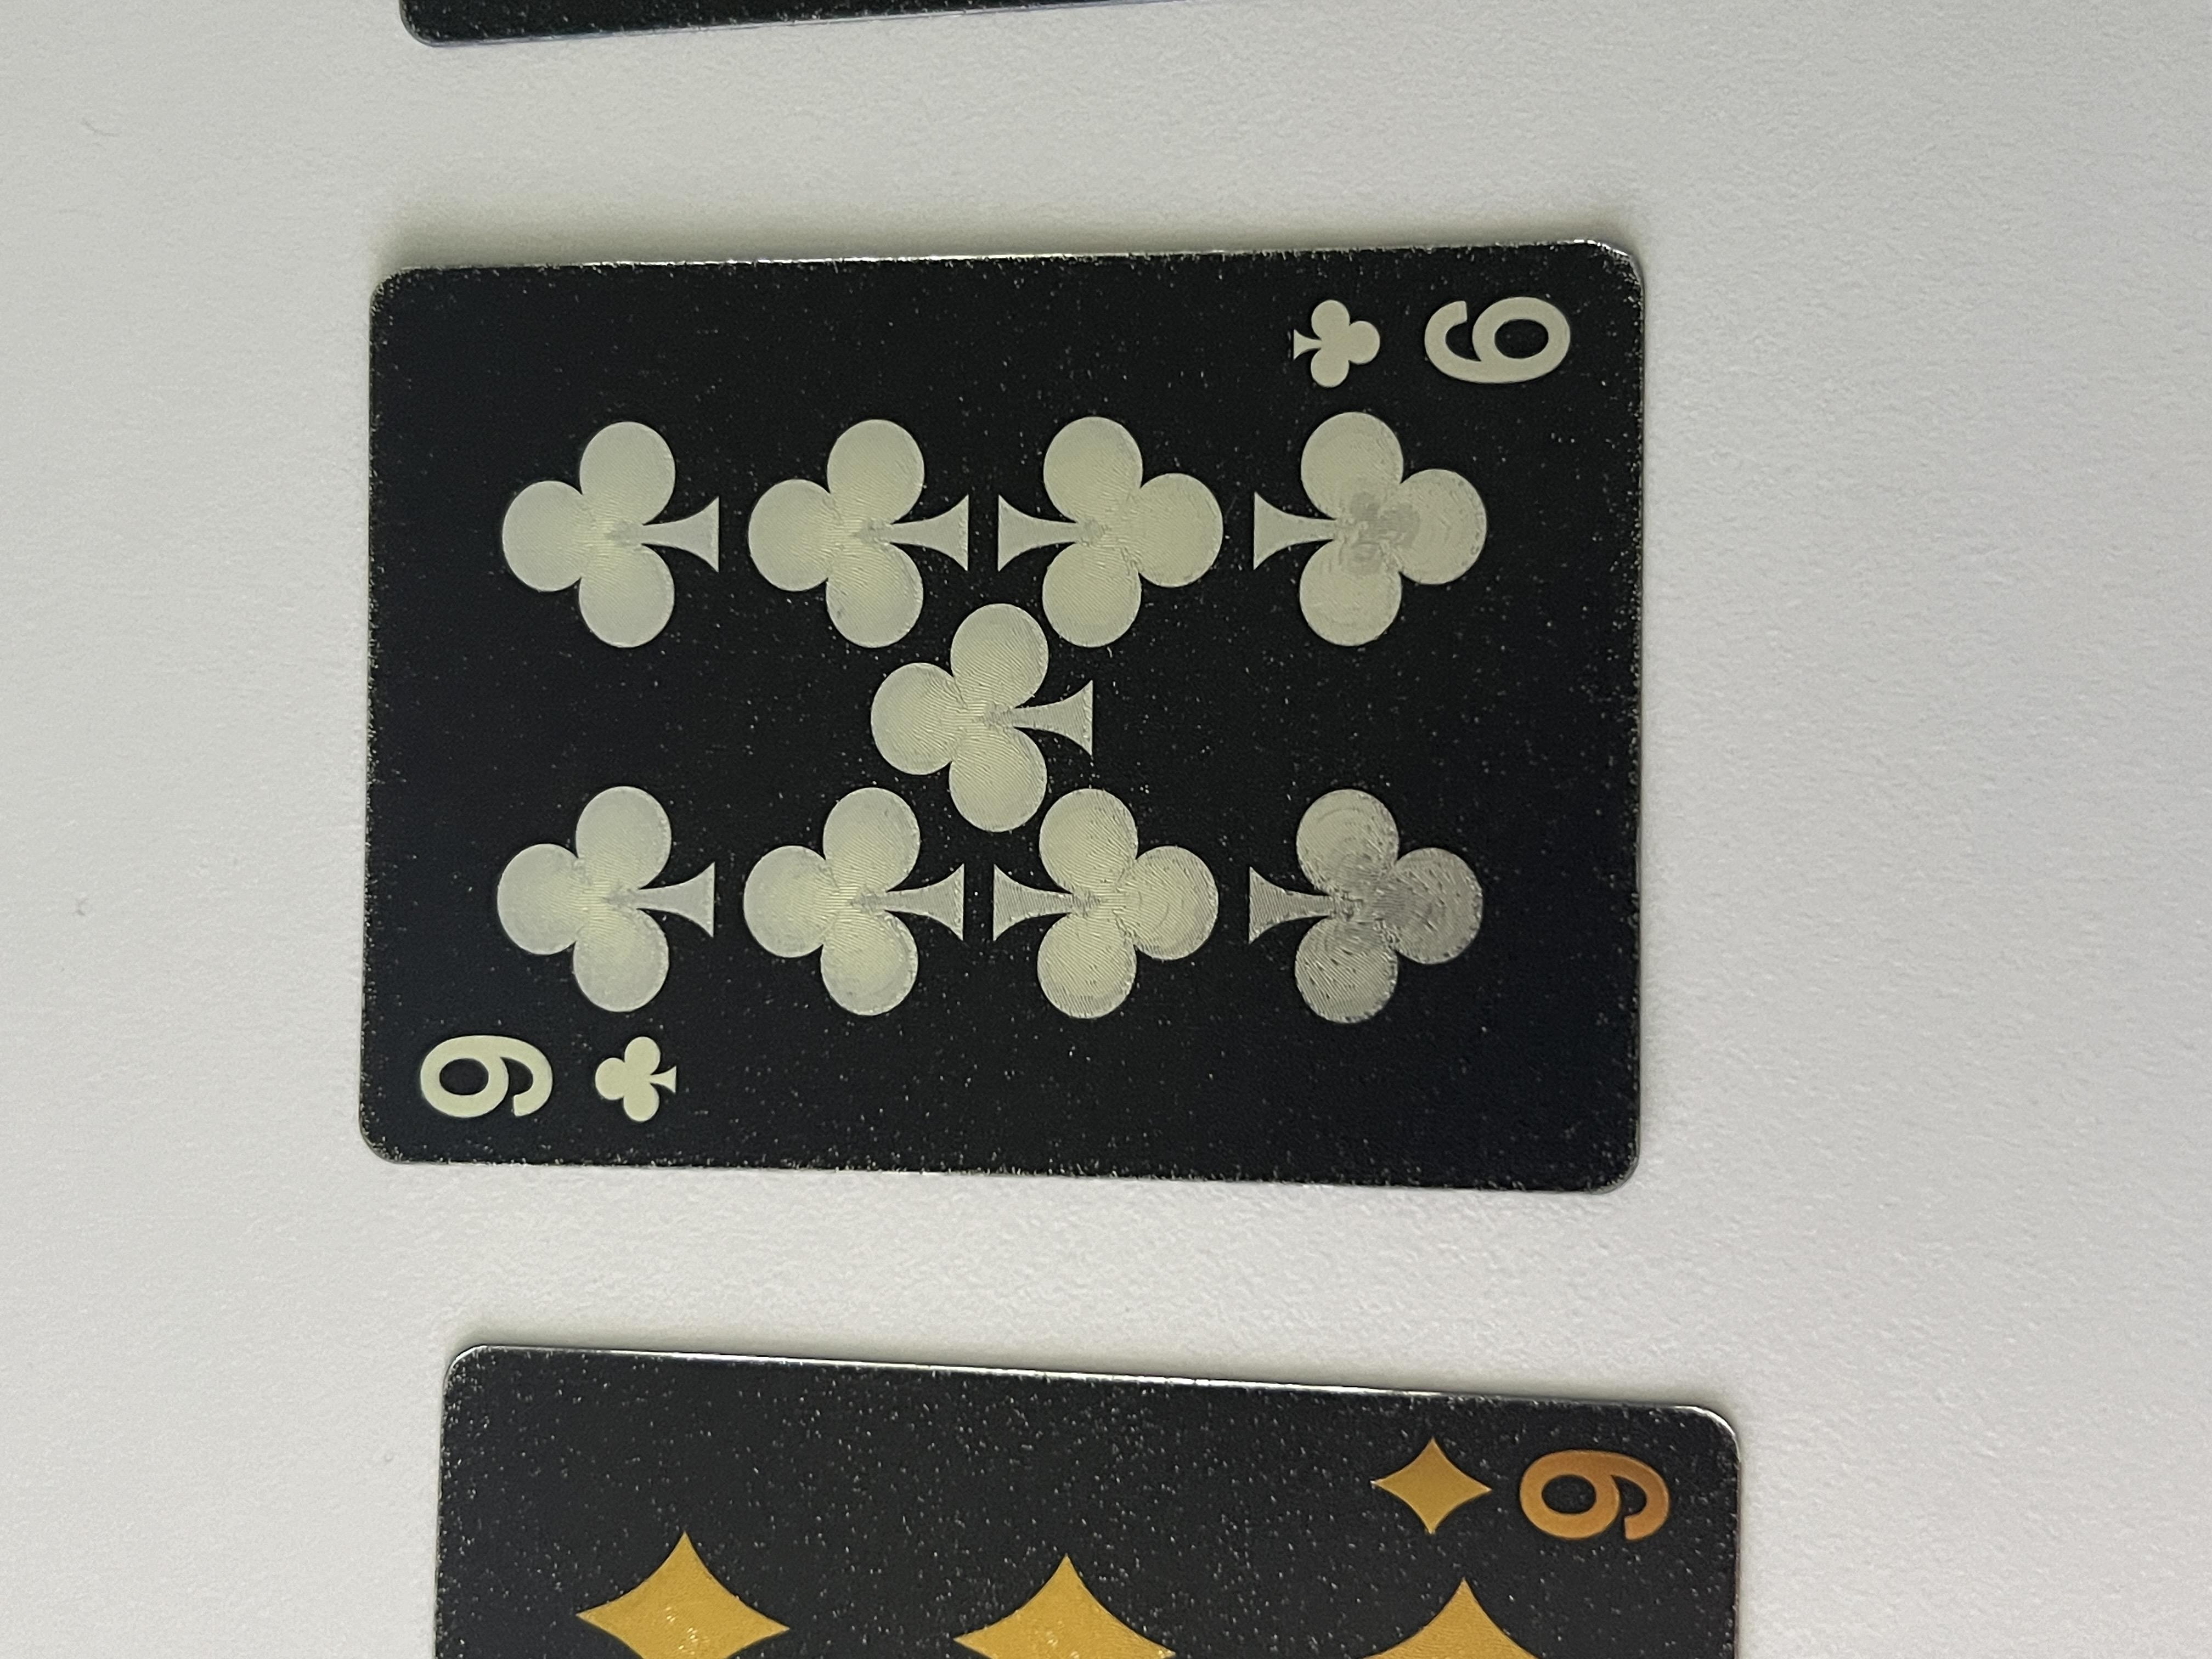6D: (113, 1016, 340, 1288)
9C: (1689, 965, 1858, 1195), (688, 307, 855, 528)
